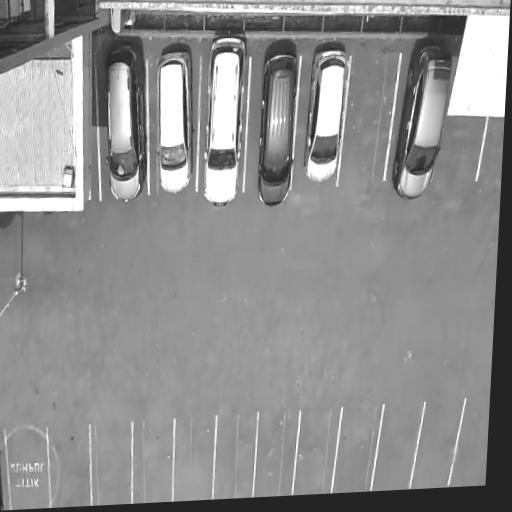Car: (386, 39, 455, 209), (198, 29, 251, 209), (253, 39, 306, 216), (99, 41, 151, 204), (149, 43, 201, 201), (298, 42, 354, 188)
Space Available: (344, 52, 390, 184), (338, 404, 375, 493), (255, 415, 296, 495), (134, 420, 174, 501), (173, 421, 214, 500), (215, 418, 255, 498), (298, 409, 336, 493), (380, 403, 415, 489), (441, 111, 478, 192), (93, 425, 131, 503), (422, 397, 453, 486), (459, 397, 490, 484), (12, 427, 45, 508), (53, 434, 87, 505), (486, 115, 504, 196)
